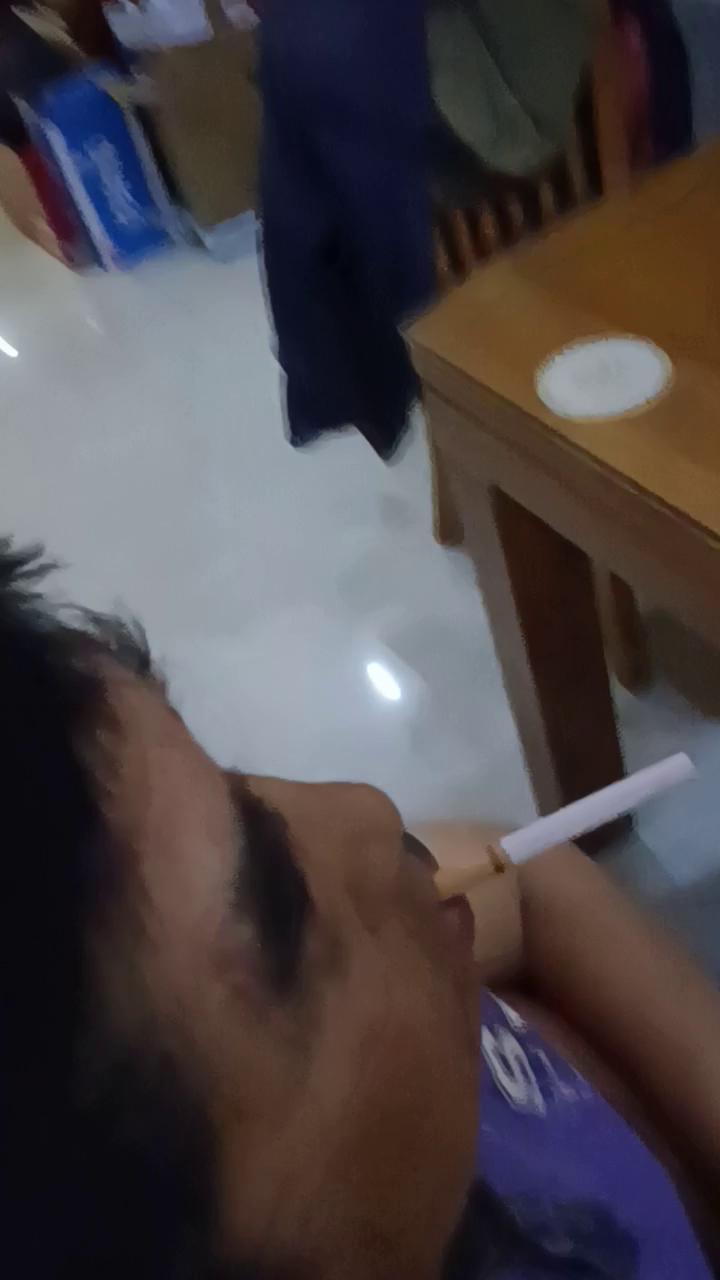smoke: (433, 752, 702, 906)
